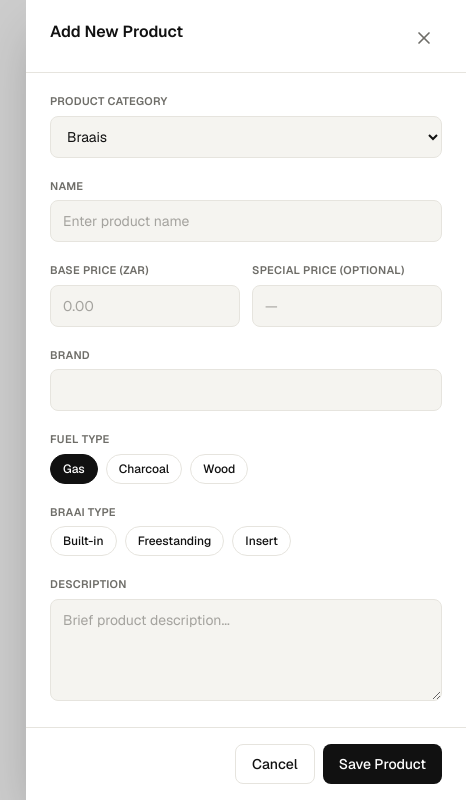
Scenario: create mode › validation › requires a name
What coordinates should you click on to do the following:
click the button "Save Product"
I would click on:
 (382, 764)
Its box is [323,744,442,784].
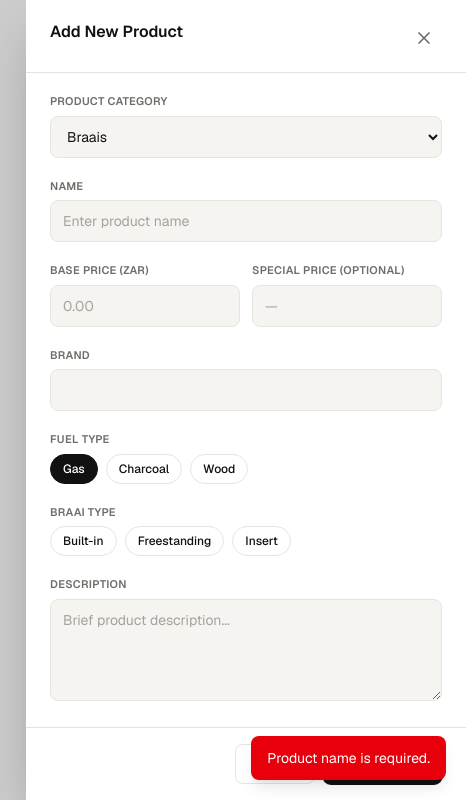
Result: the text "Product name is required." is shown at [251,736,446,780]
